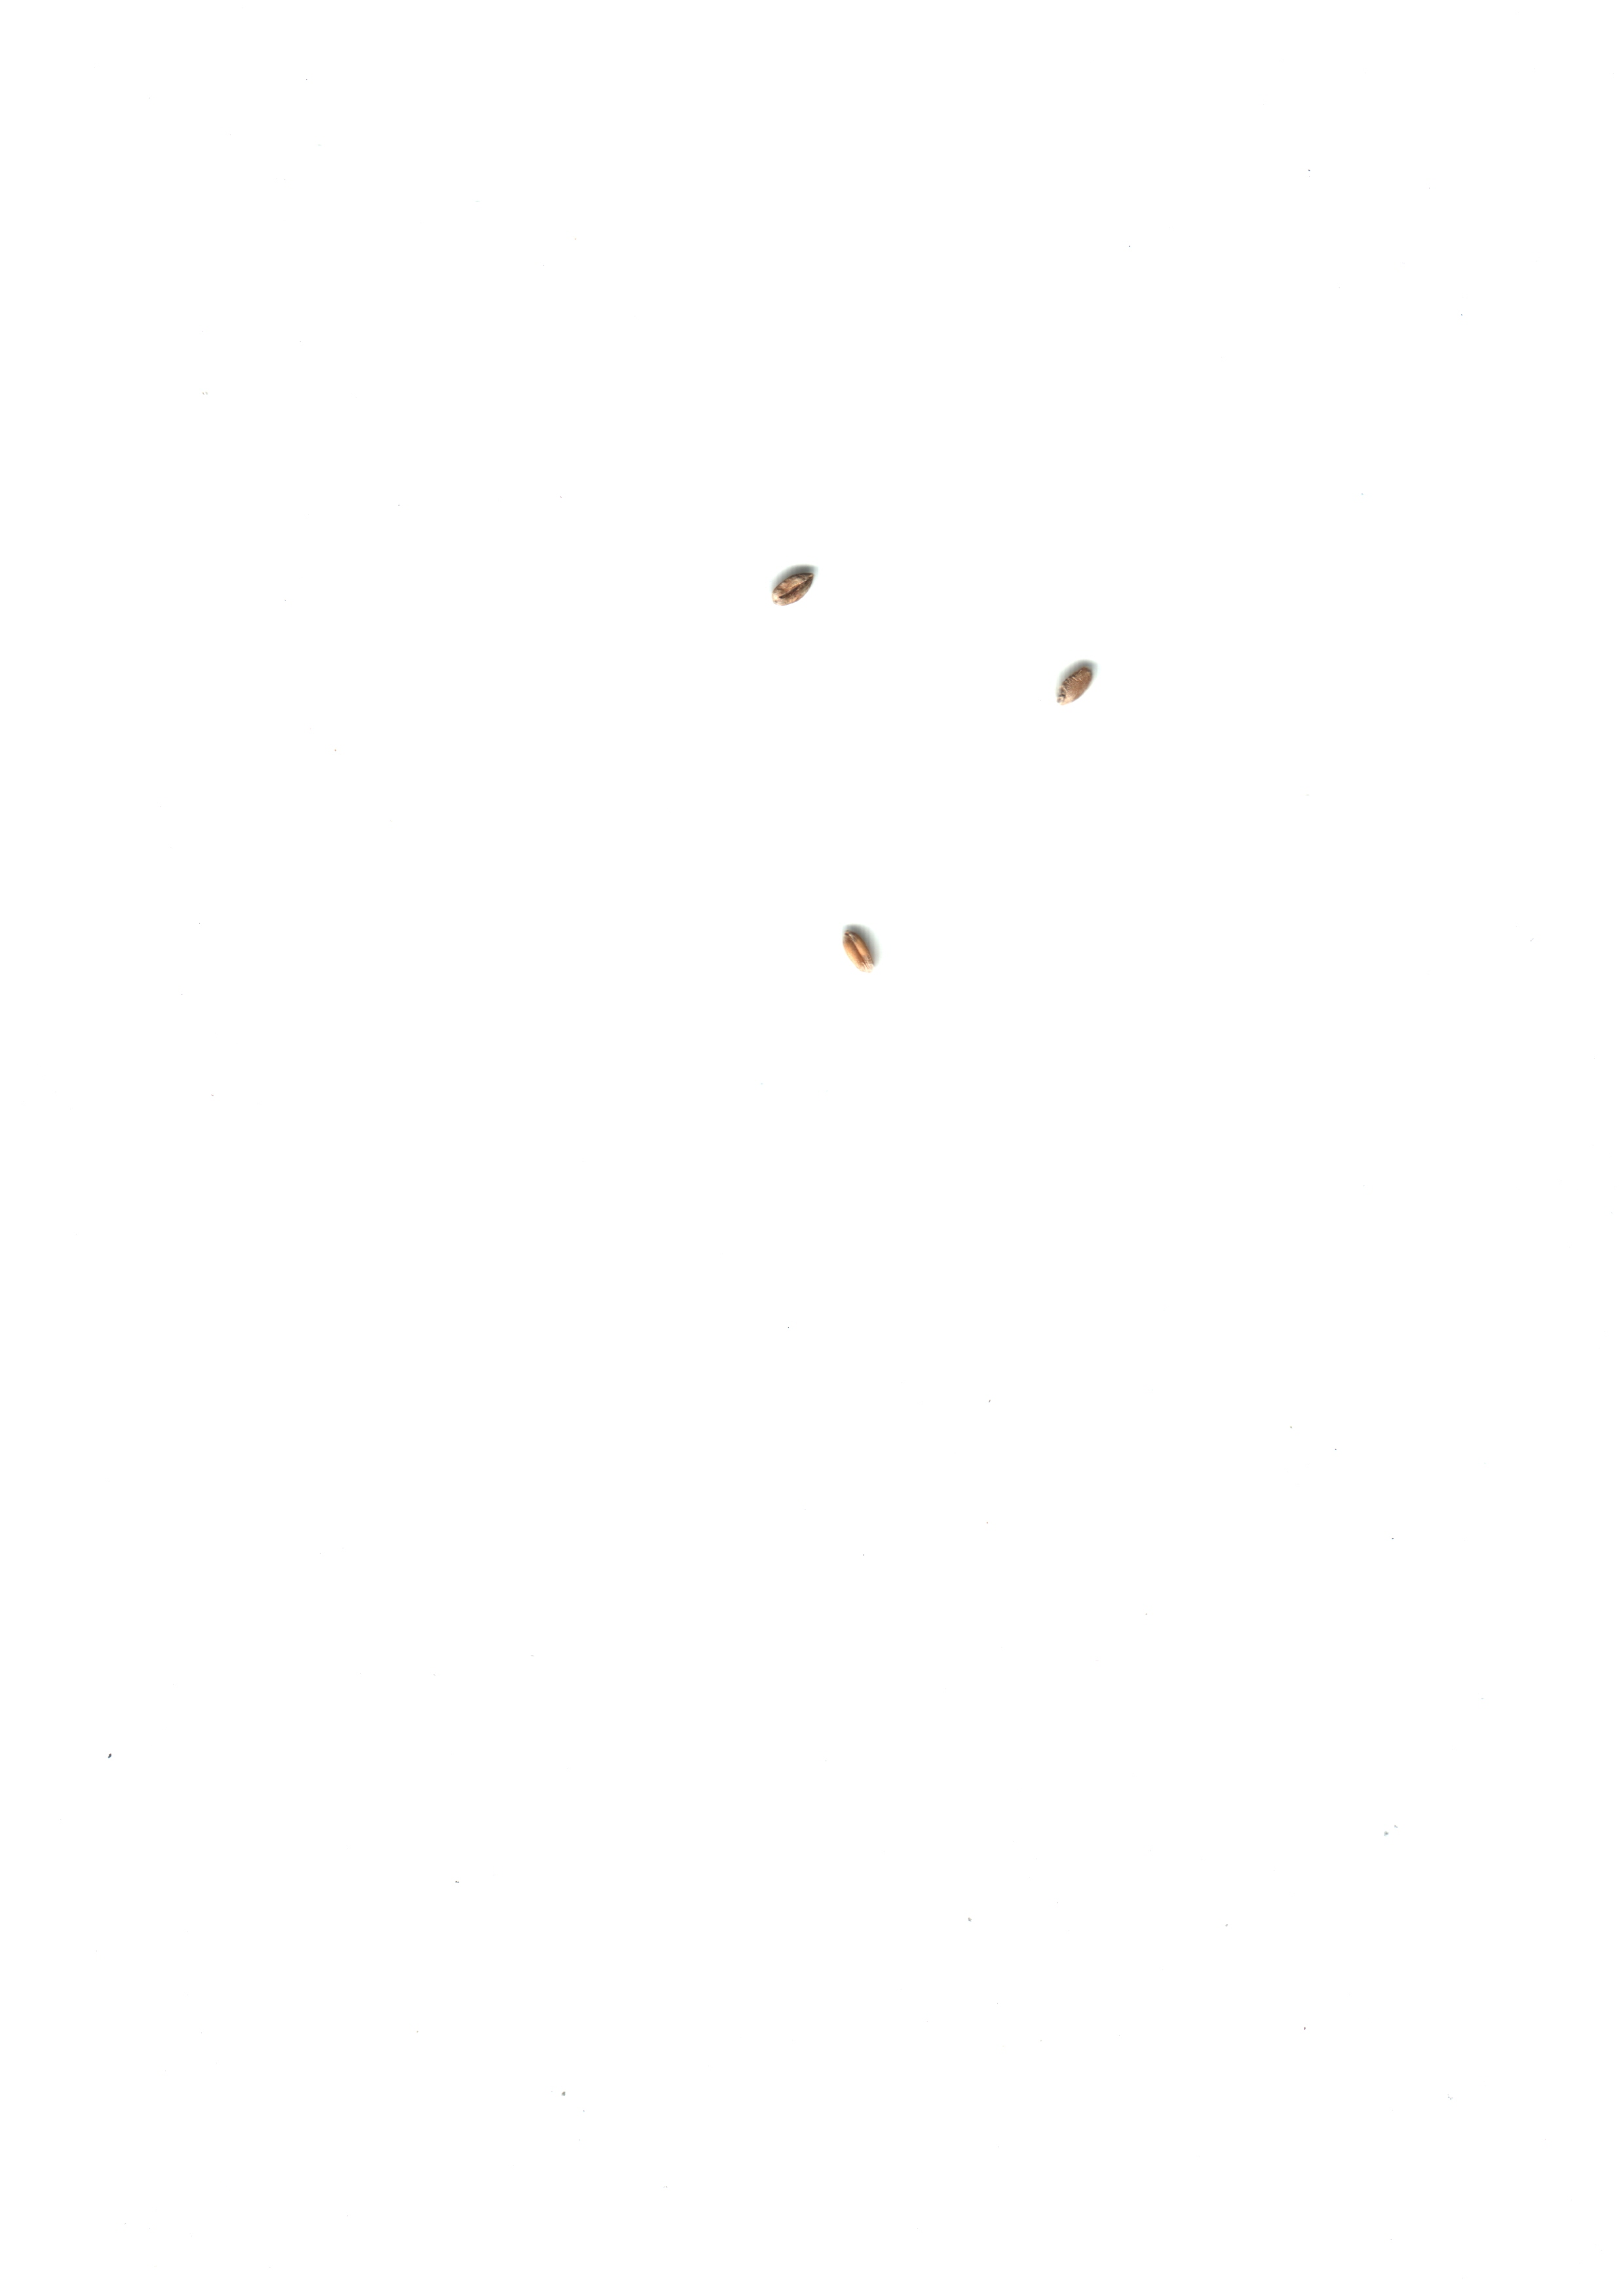grains_3mm: (1034, 641, 1128, 729), (741, 538, 836, 626), (809, 906, 904, 992)
